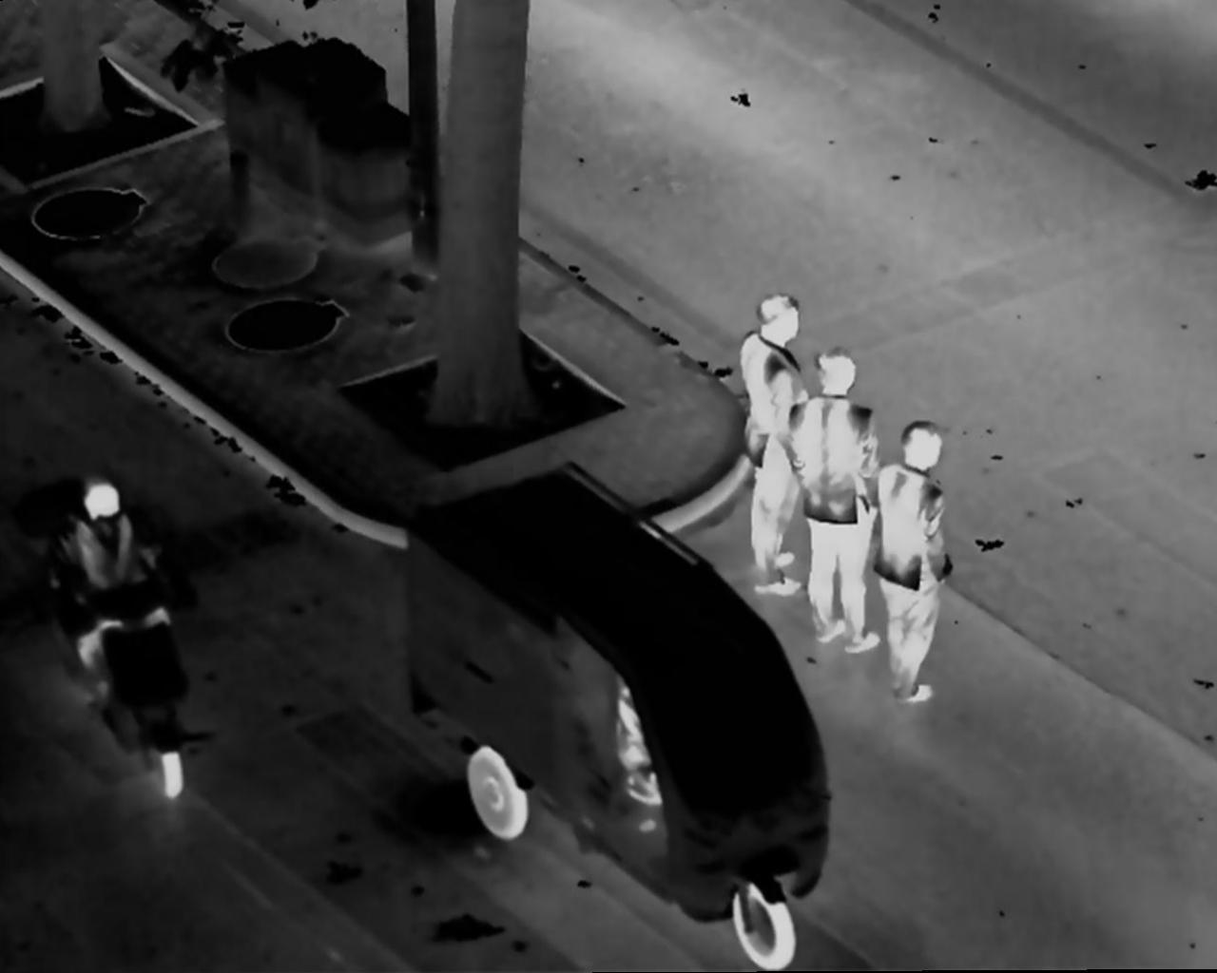person: (51, 467, 166, 717), (795, 349, 881, 655), (871, 413, 954, 713), (738, 293, 803, 601), (610, 676, 668, 812)
